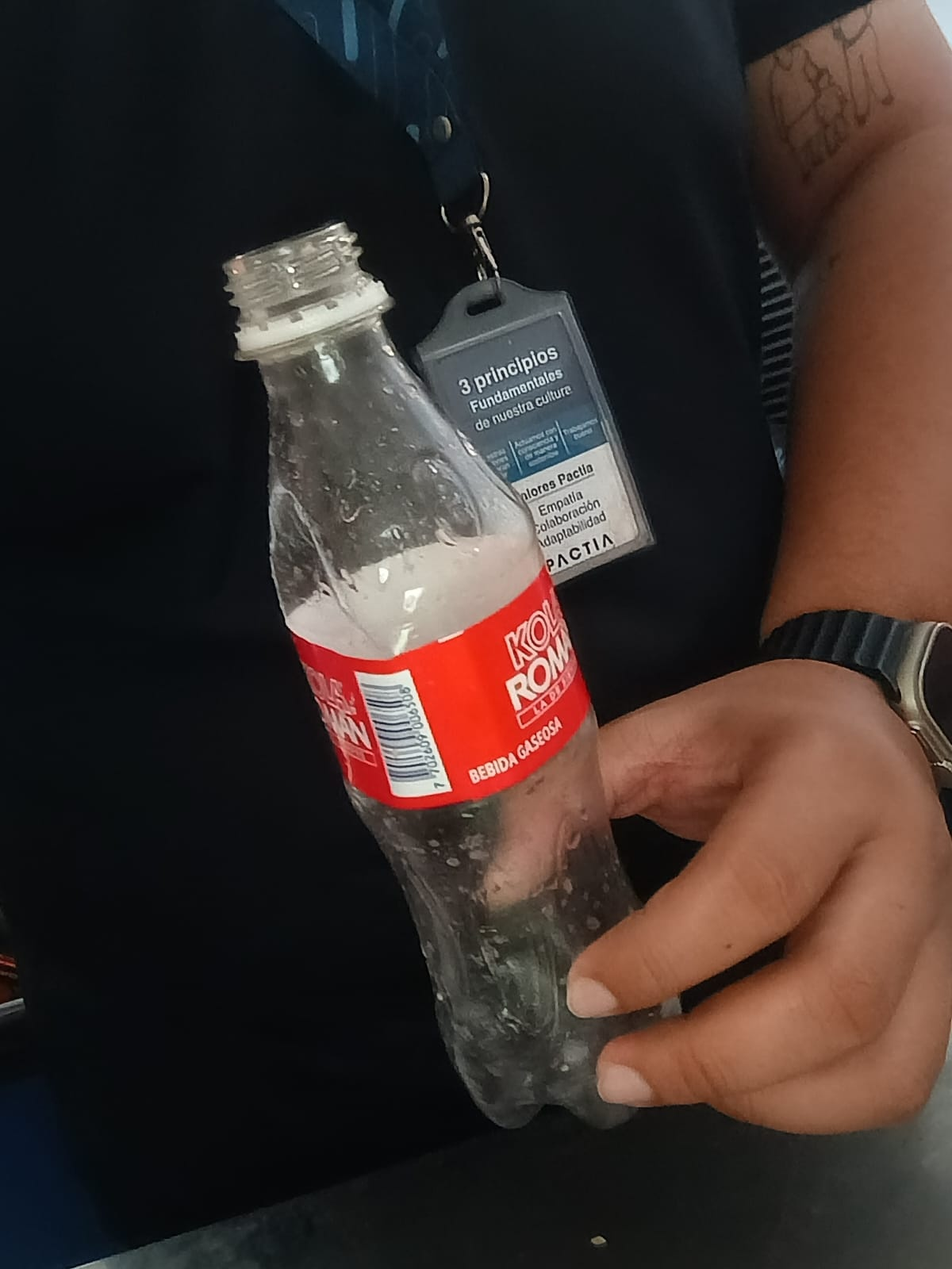Plastico: (220, 225, 687, 1131)
